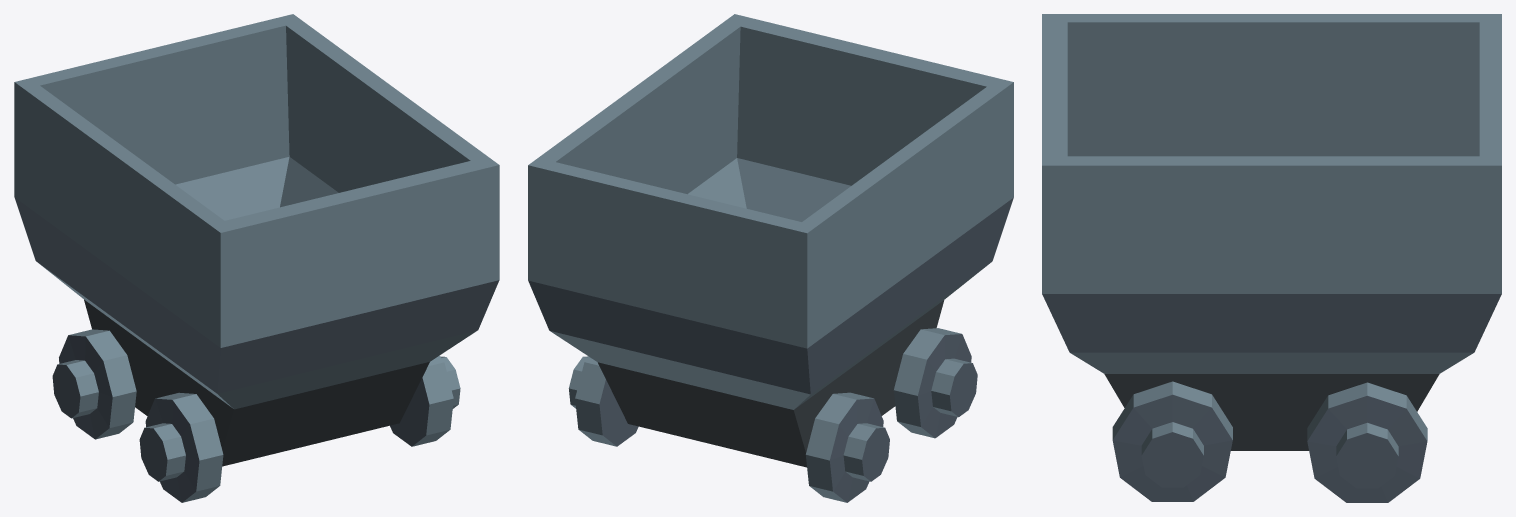
Rendered from Minecart01.fbx.
3 views of the same model, side by side, from view 1: azimuth 30°, elevation 25°; view 2: azimuth 150°, elevation 25°; view 3: azimuth 270°, elevation 25° (orthographic). The views are drawn at different scales.
Visible parts, largest first — view 1: Minecart01, Minecart-rearWheels, Minecart-frontWheels; view 2: Minecart01, Minecart-frontWheels, Minecart-rearWheels; view 3: Minecart01, Minecart-frontWheels, Minecart-rearWheels.
Boxes of the visible parts, left/top/right/bottom form: Minecart01: left=14, top=14, right=499, bottom=466; Minecart-rearWheels: left=139, top=355, right=460, bottom=502; Minecart-frontWheels: left=52, top=329, right=136, bottom=439; Minecart01: left=528, top=14, right=1013, bottom=467; Minecart-frontWheels: left=568, top=356, right=889, bottom=502; Minecart-rearWheels: left=893, top=328, right=977, bottom=438; Minecart01: left=1042, top=14, right=1501, bottom=450; Minecart-frontWheels: left=1307, top=382, right=1427, bottom=502; Minecart-rearWheels: left=1112, top=381, right=1232, bottom=501.
Size of the model in its own units: 131 by 132 by 160.
